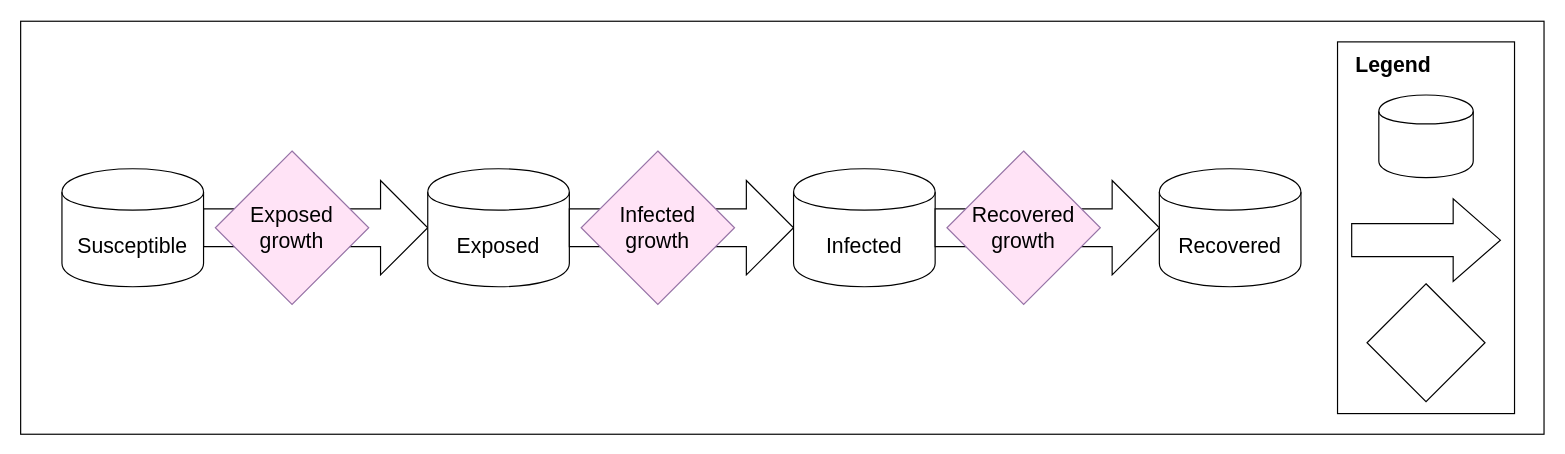
Some shapes in this 1565 by 454 pixel diagram are drawn without their labels. Each missing label, with the centre of its shape:
"Policy mechanism" goes at (1425,342).
"Population flow" goes at (1425,239).
"Population stock" goes at (1425,136).
